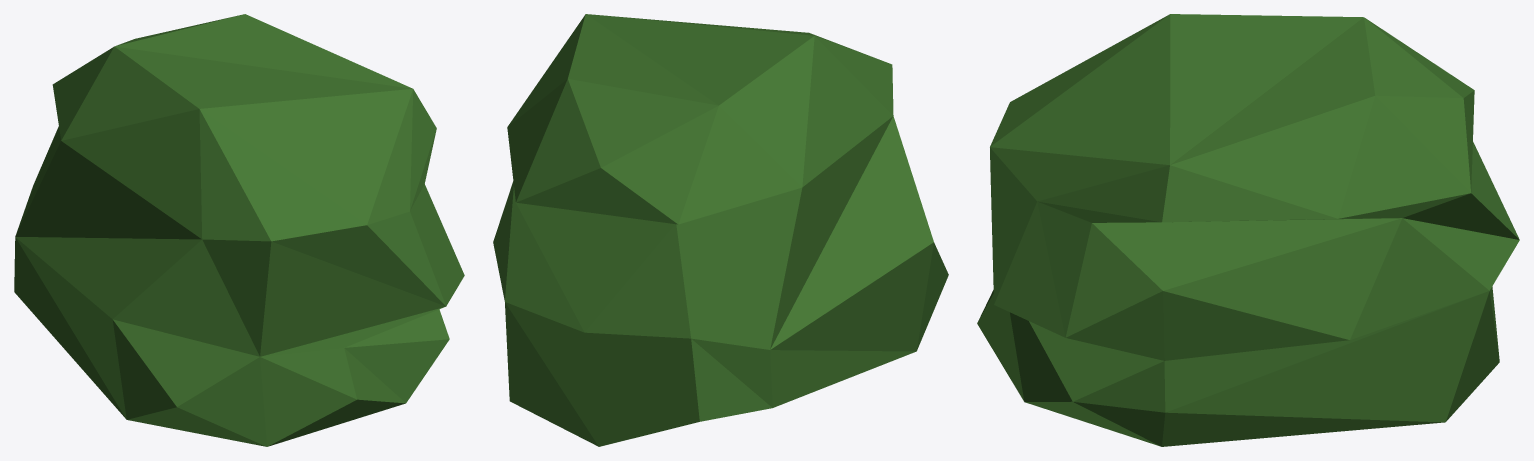
File: deco_summer_2.glb
3 renders of one model, left to right at view 1: azimuth 30°, elevation 25°; view 2: azimuth 150°, elevation 25°; view 3: azimuth 270°, elevation 25°, orthographic. The views are drawn at different scales.
Parts seen in each view (by area): view 1: lod0; view 2: lod0; view 3: lod0.
Part boxes in pixels (x1,y1,x2,y2): lod0: (14,14,464,446); lod0: (493,14,948,446); lod0: (977,14,1519,446).
Bounding box in the file's own units: 1.18 × 1.04 × 1.5.
